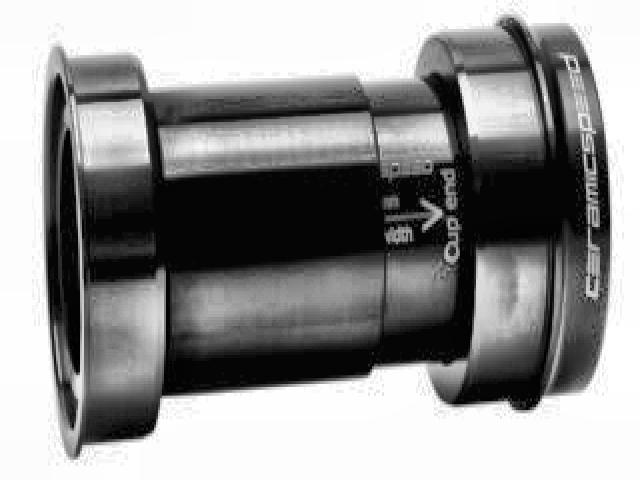bottom_bracket: (42, 13, 614, 463)
